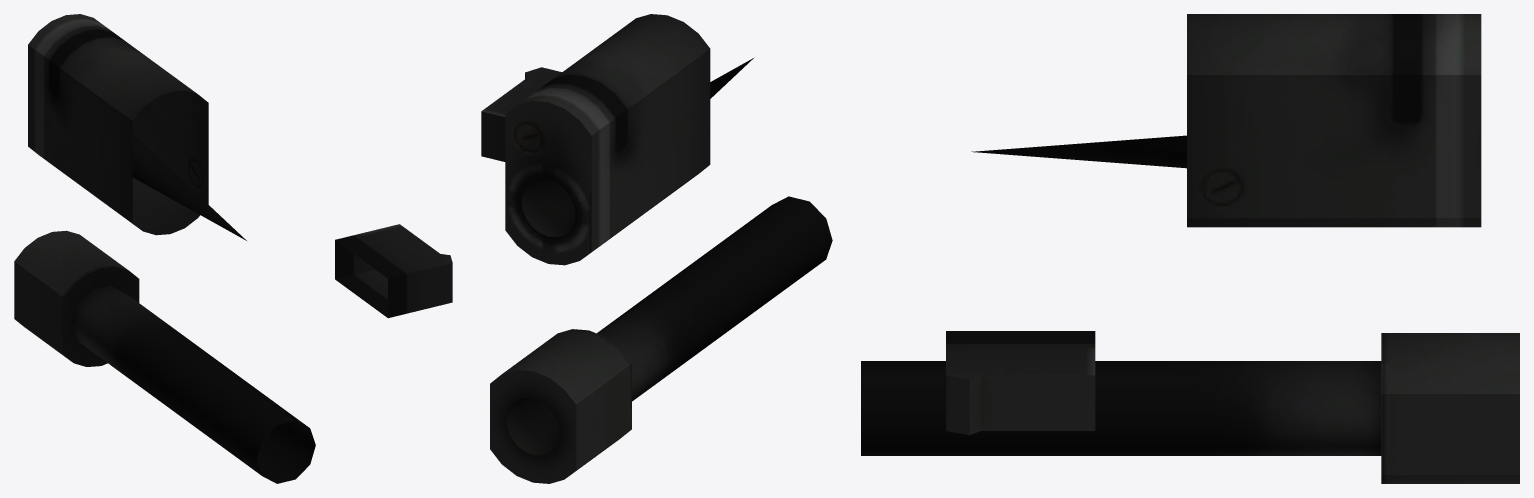
The model's file is portal_turret_guns_right.obj.
The picture shows the model from 3 angles, left to right: view 1: azimuth 30°, elevation 25°; view 2: azimuth 150°, elevation 25°; view 3: azimuth 270°, elevation 25°; orthographic projection. The views are drawn at different scales.
Visible parts, largest first — view 1: portal_turret_guns_right; view 2: portal_turret_guns_right; view 3: portal_turret_guns_right.
Part boxes in pixels (x1=…): portal_turret_guns_right: x1=14, y1=14, x2=452, y2=483; portal_turret_guns_right: x1=481, y1=14, x2=832, y2=483; portal_turret_guns_right: x1=861, y1=14, x2=1519, y2=483.
Size of the model in its own units: 0.1424 by 0.1838 by 0.2401.
Materials: 1 (1 with a texture image).
